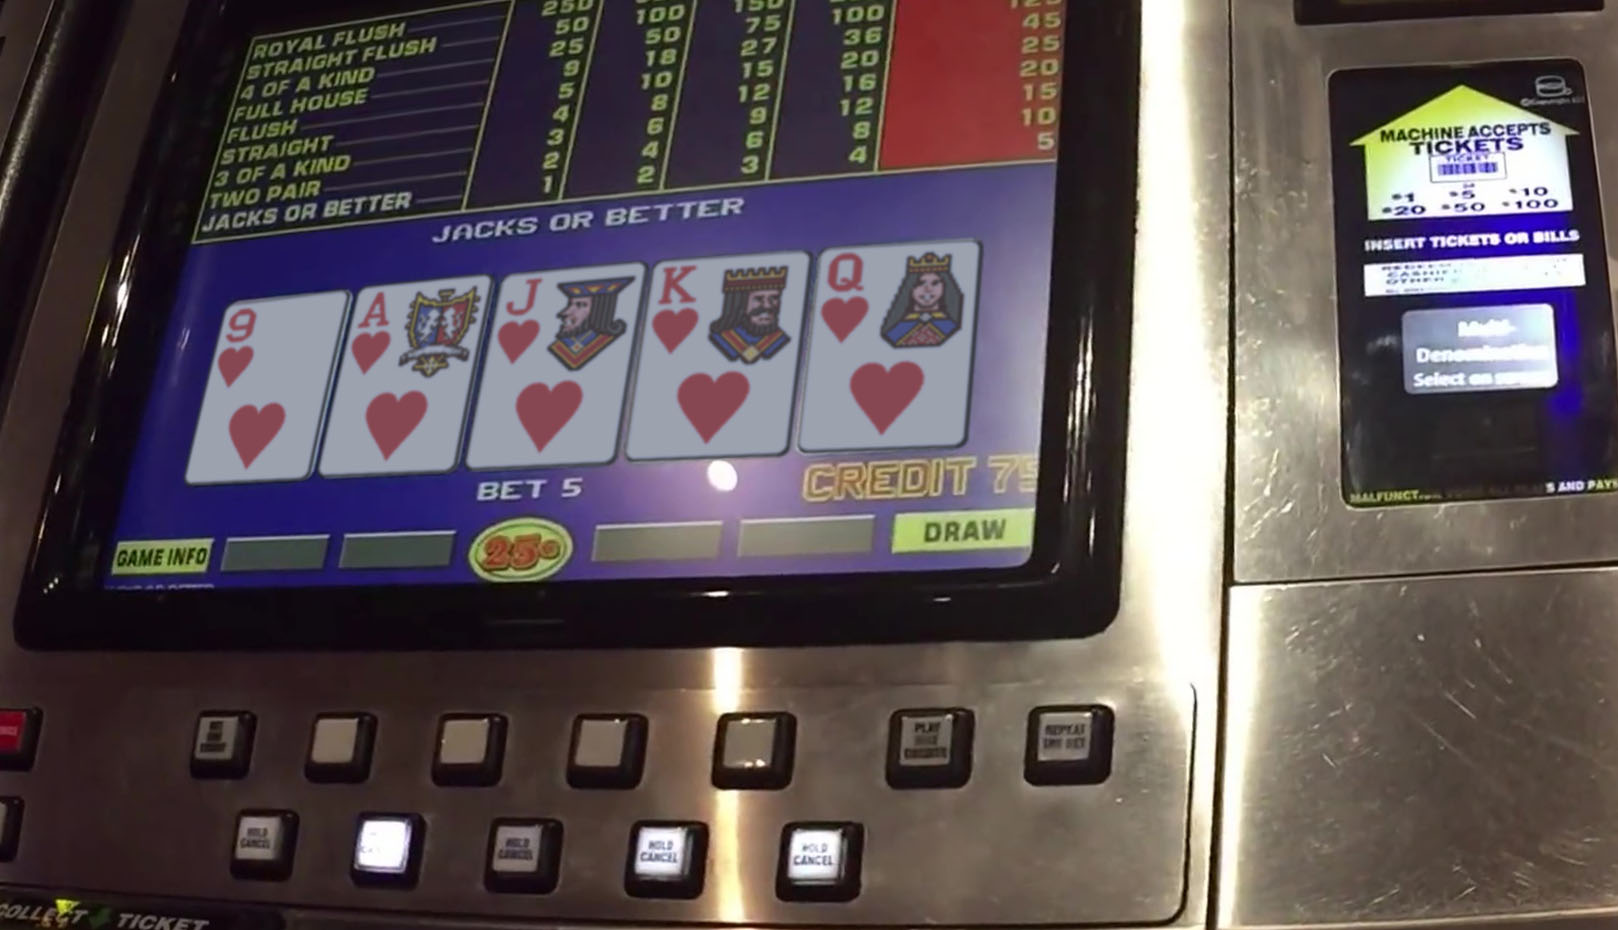H9: (214, 296, 334, 477)
HA: (344, 280, 477, 471)
HJ: (485, 268, 635, 464)
HK: (645, 256, 792, 460)
HQ: (821, 248, 965, 444)
